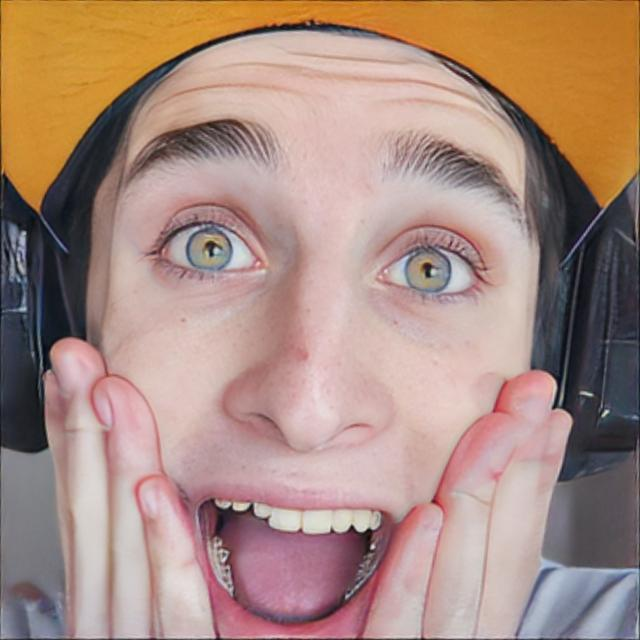surprise: (86, 22, 544, 640)
